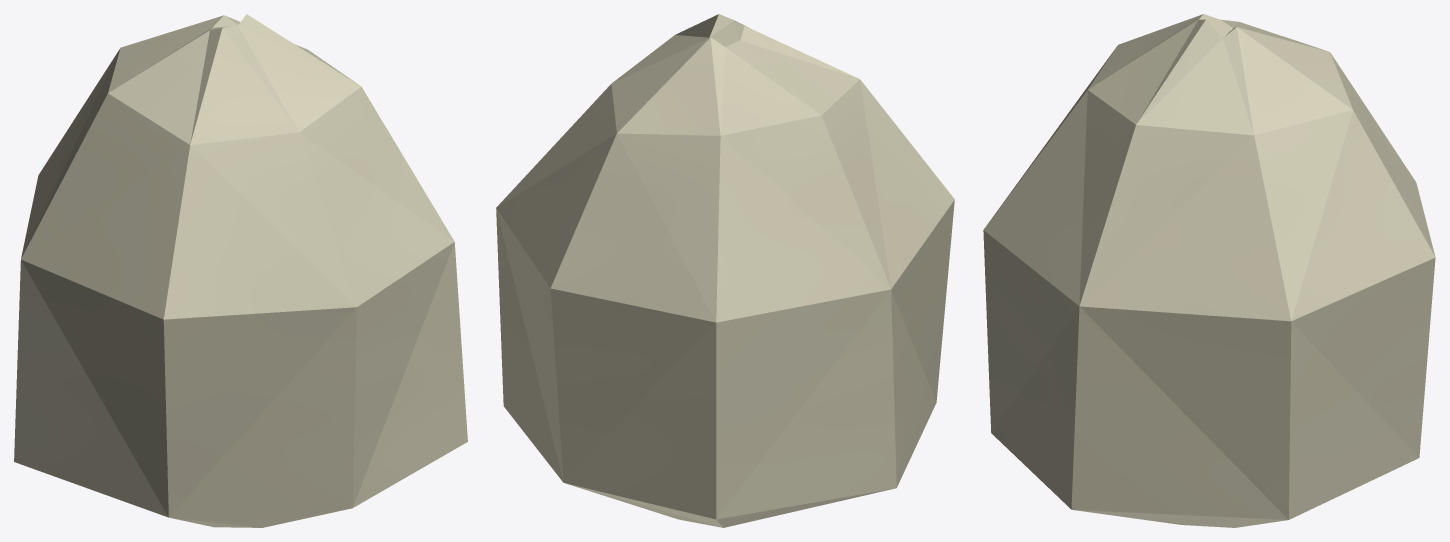
Rendered from WarrensC_WVC050_SaltCrystalChunk_Mars_SM.fbx.
3 views of the same model, side by side, from view 1: azimuth 30°, elevation 25°; view 2: azimuth 150°, elevation 25°; view 3: azimuth 270°, elevation 25° (orthographic). The views are drawn at different scales.
Visible parts, largest first — view 1: WarrensC_WVC050_SaltCrystalChunk_Mars_SM.001; view 2: WarrensC_WVC050_SaltCrystalChunk_Mars_SM.001; view 3: WarrensC_WVC050_SaltCrystalChunk_Mars_SM.001.
Part boxes in pixels (x1,y1,x2,y2): WarrensC_WVC050_SaltCrystalChunk_Mars_SM.001: (14, 14, 467, 527); WarrensC_WVC050_SaltCrystalChunk_Mars_SM.001: (496, 14, 954, 527); WarrensC_WVC050_SaltCrystalChunk_Mars_SM.001: (983, 14, 1435, 527).
Size of the model in its own units: 50 by 50 by 60.
